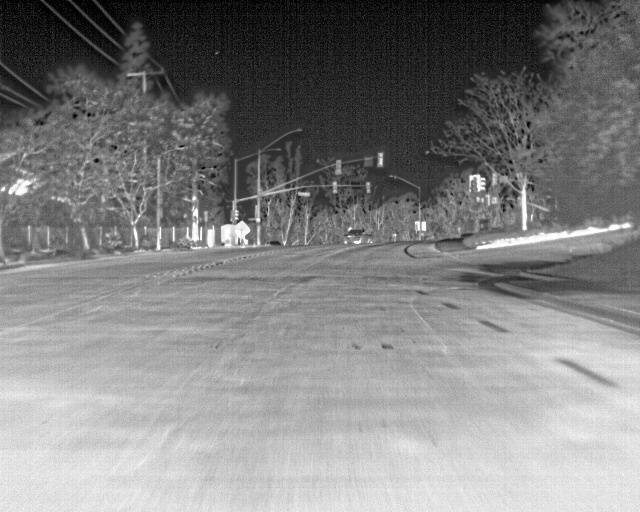car: (344, 217, 376, 248)
